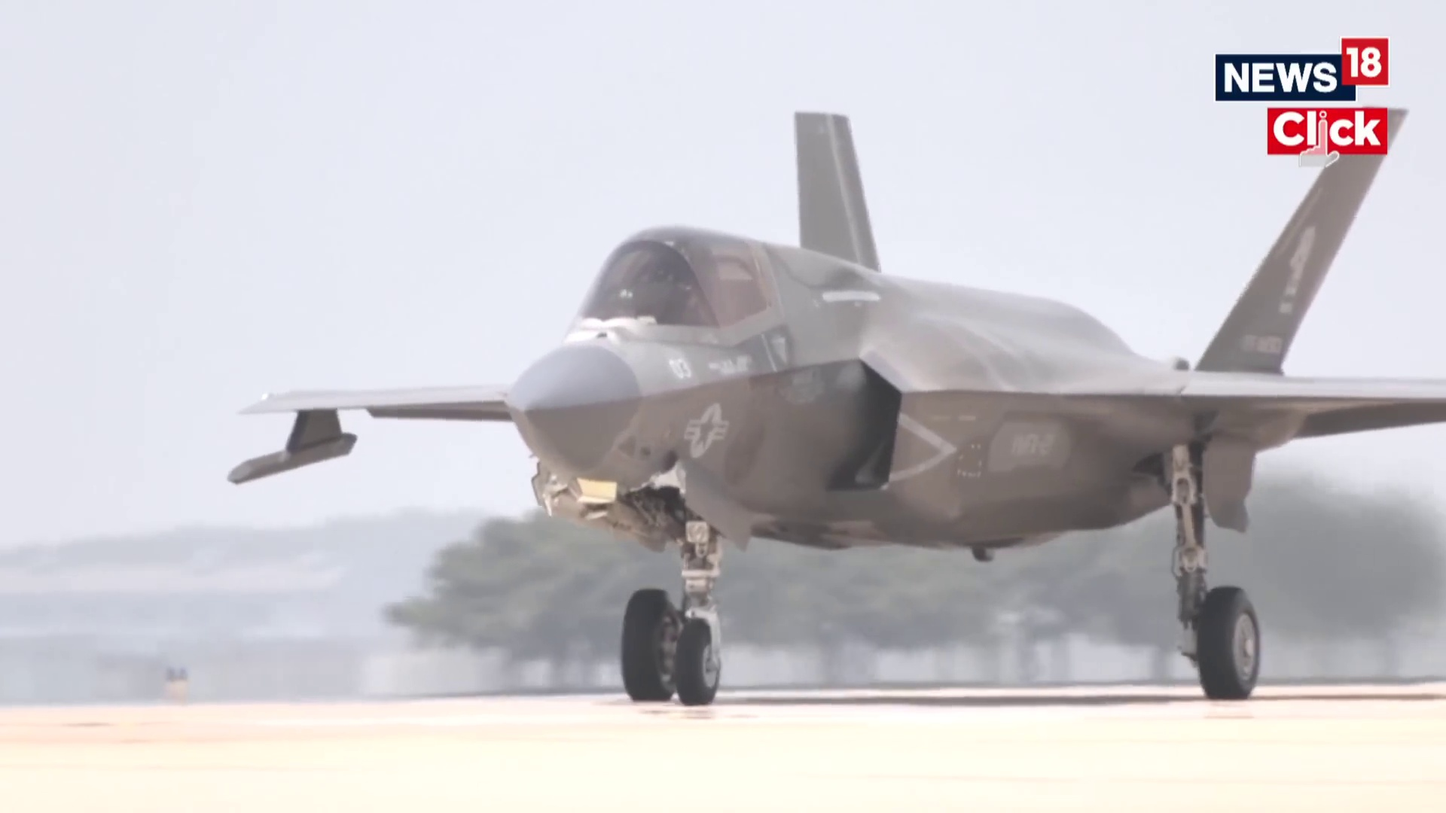F35: (226, 107, 1446, 704)
